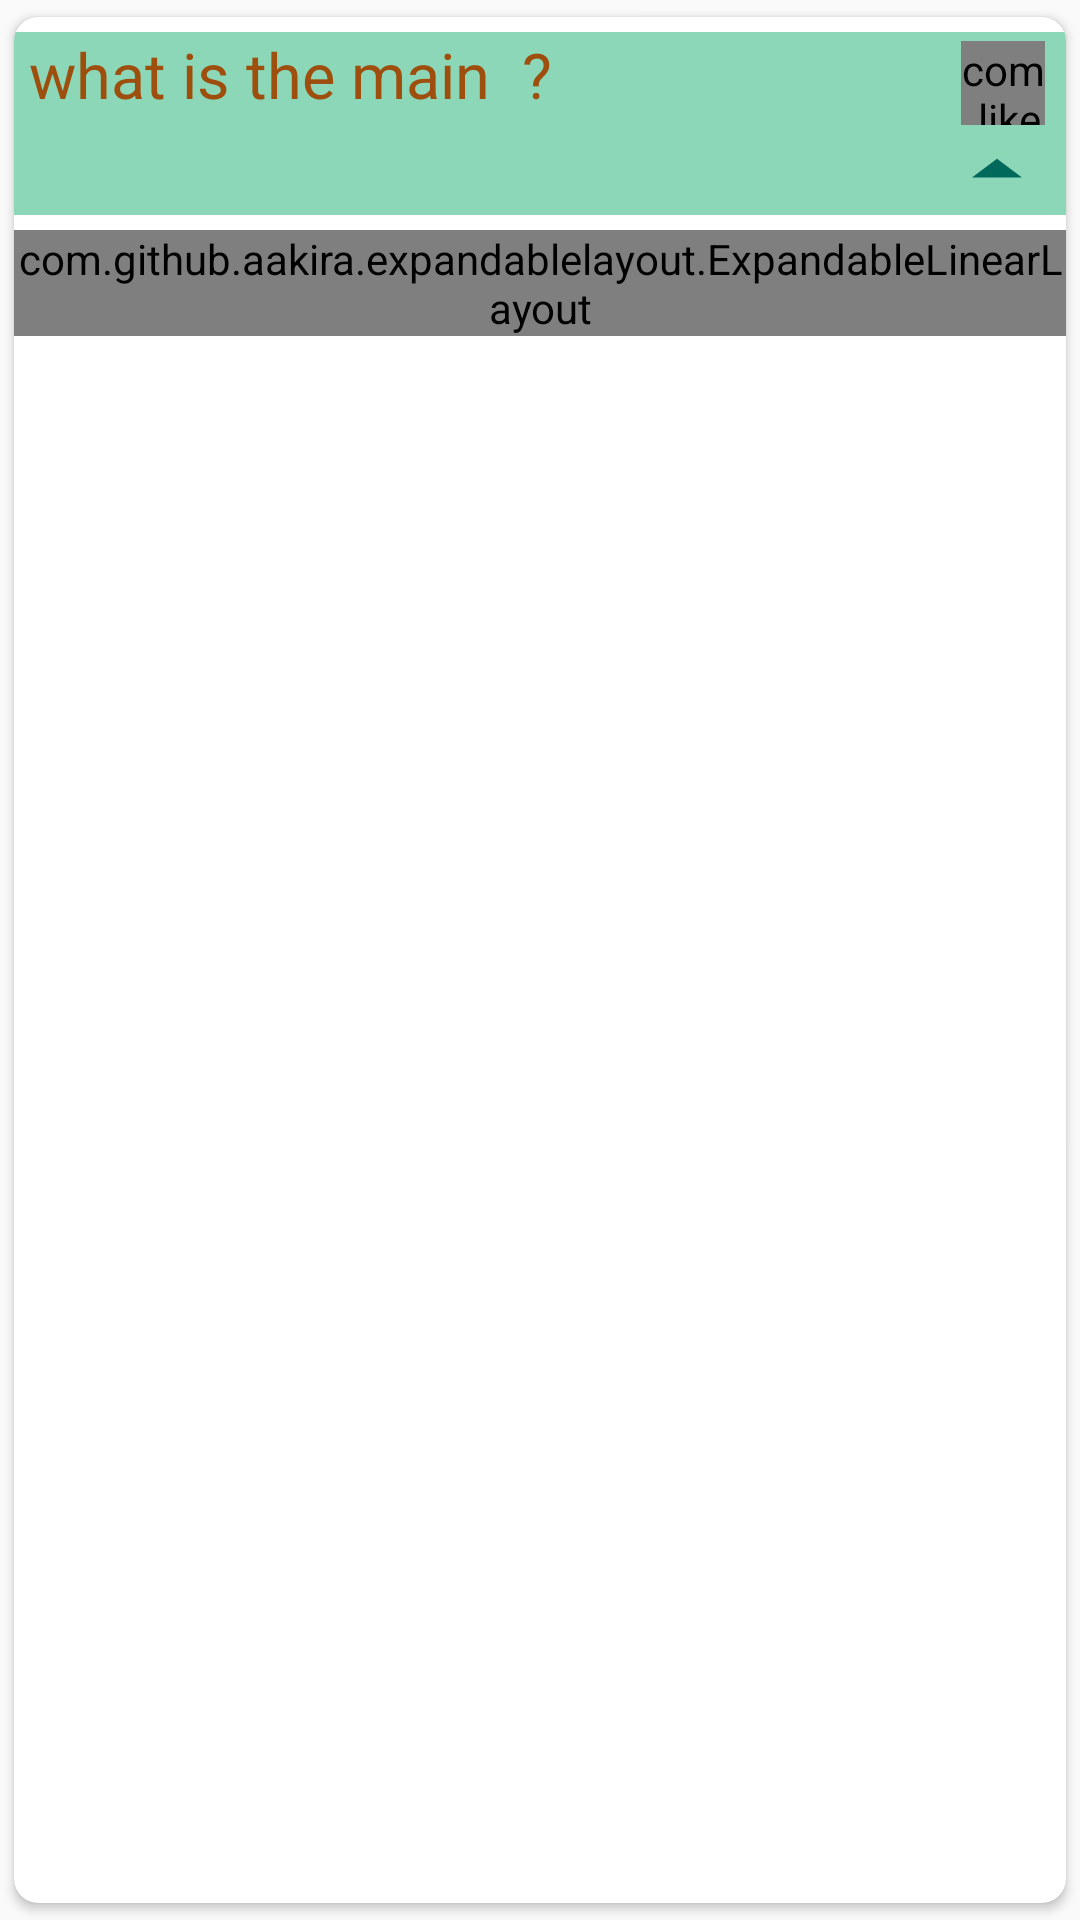

Named icons in this screenshot (1080px×1920px) and their bounding boxes, (x1, y1, x2, y2):
arrow drop up: (972, 159, 1022, 178)
